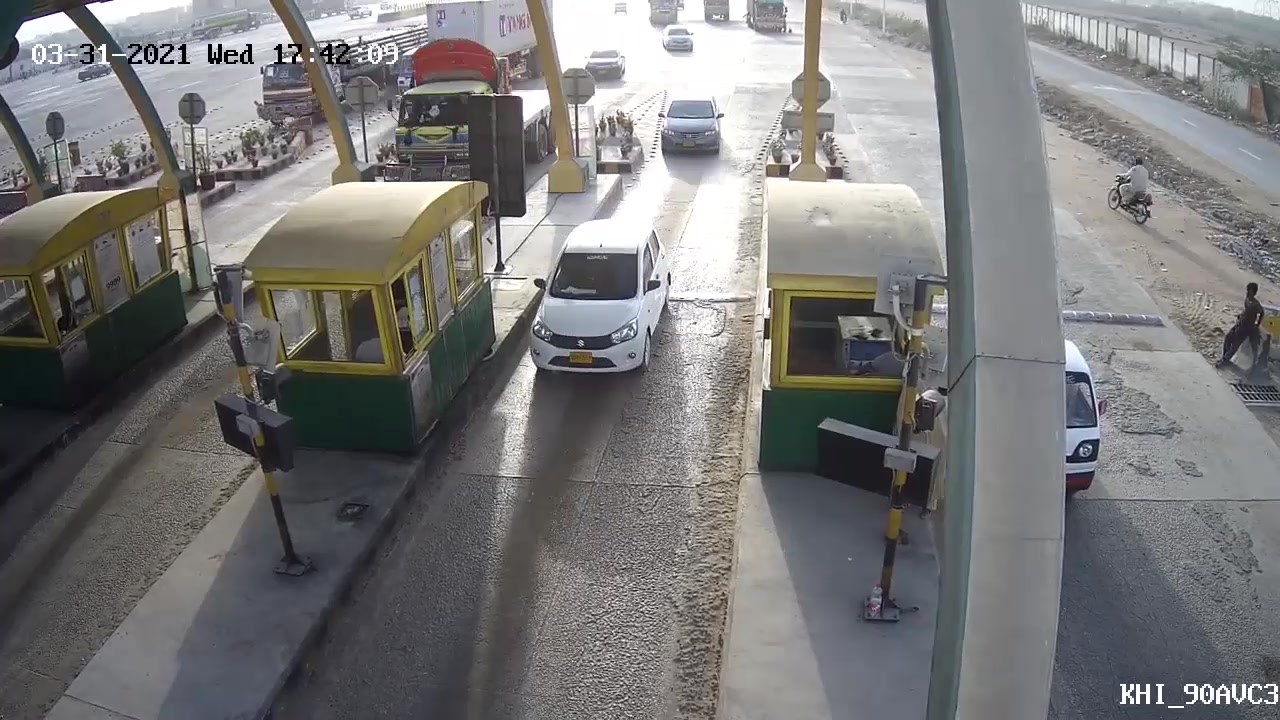F1: (518, 211, 680, 387)
